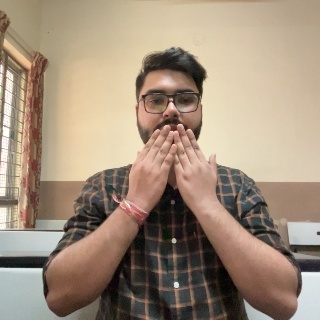Thank You: (128, 123, 224, 209)
